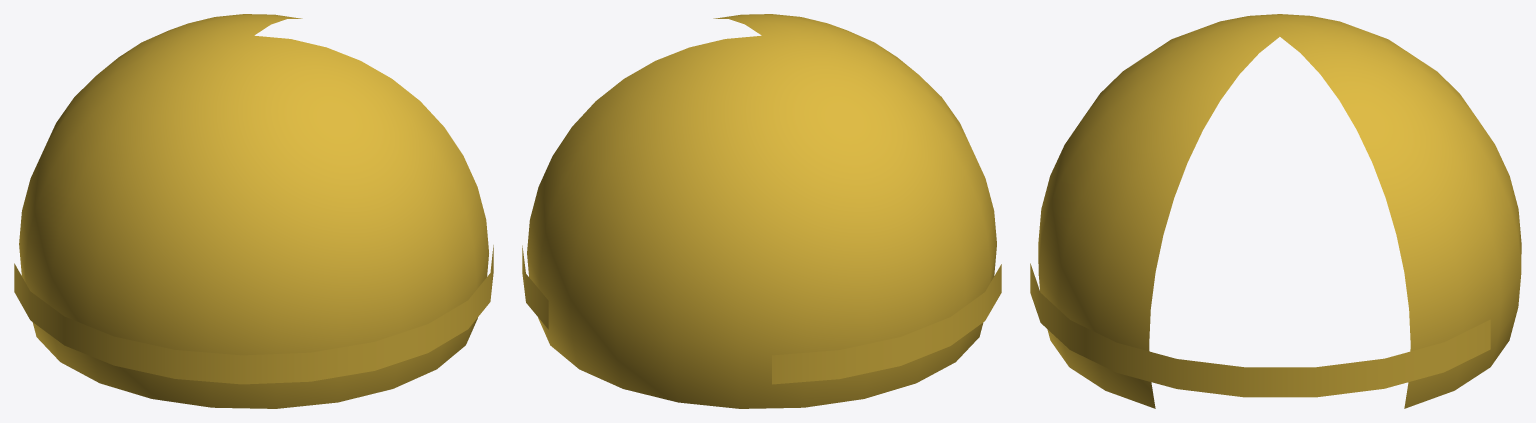
Rendered from gold_helmet.glb.
3 renders of one model, left to right at view 1: azimuth 30°, elevation 25°; view 2: azimuth 150°, elevation 25°; view 3: azimuth 270°, elevation 25°, orthographic. The views are drawn at different scales.
Parts seen in each view (by area): view 1: shell, rim; view 2: shell, rim; view 3: shell, rim.
Boxes of the visible parts, x1,y1,x2,y2 form: shell: (19,14,488,408); rim: (14,245,493,384); shell: (527,14,996,408); rim: (522,245,1001,384); shell: (1038,14,1521,408); rim: (1030,263,1490,397).
Size of the model in its own units: 0.4456 by 0.288 by 0.4429.
